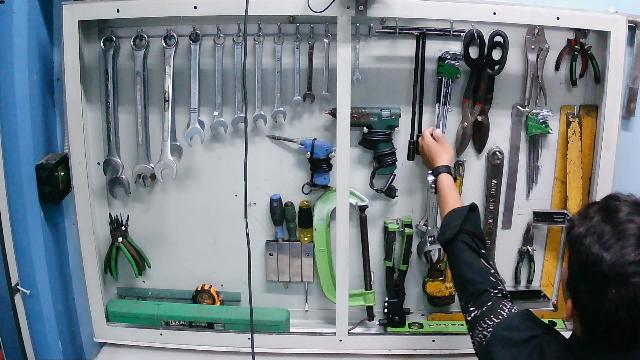kunci_l: (430, 46, 466, 144)
